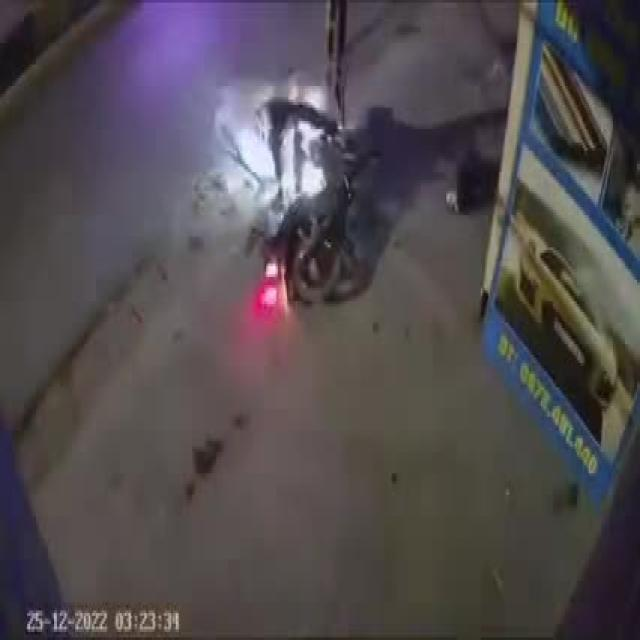single accident: (205, 70, 389, 319)
